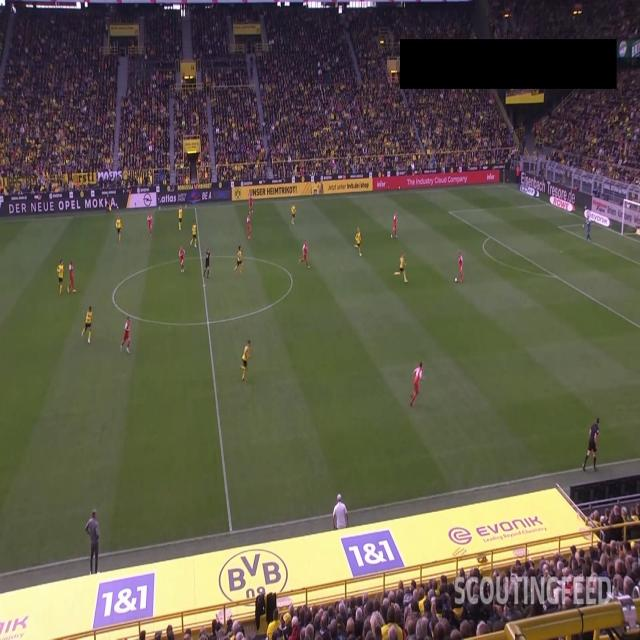ball: (454, 275, 459, 286)
f_player: (411, 362, 425, 409), (240, 341, 254, 383), (82, 306, 95, 344), (396, 250, 410, 283), (122, 315, 134, 352), (232, 243, 245, 274), (65, 261, 77, 294), (56, 260, 66, 296), (354, 227, 365, 256), (584, 214, 594, 244), (455, 251, 464, 283), (244, 211, 253, 241), (245, 191, 258, 211), (179, 248, 188, 273), (116, 218, 125, 243), (302, 240, 310, 266), (192, 220, 199, 249), (393, 214, 401, 238), (177, 203, 183, 230), (146, 214, 152, 238), (292, 204, 298, 225)
umpire: (584, 417, 601, 473), (204, 246, 214, 278)
